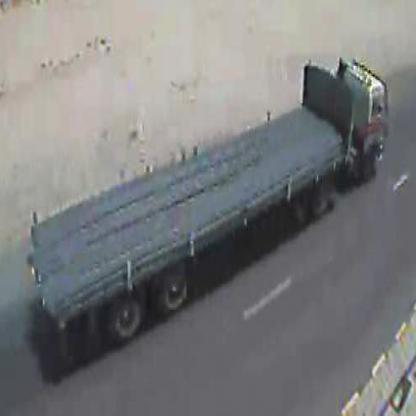container: (15, 60, 390, 358)
